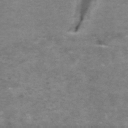finishing roll printing: (74, 0, 92, 32), (96, 40, 106, 47)
